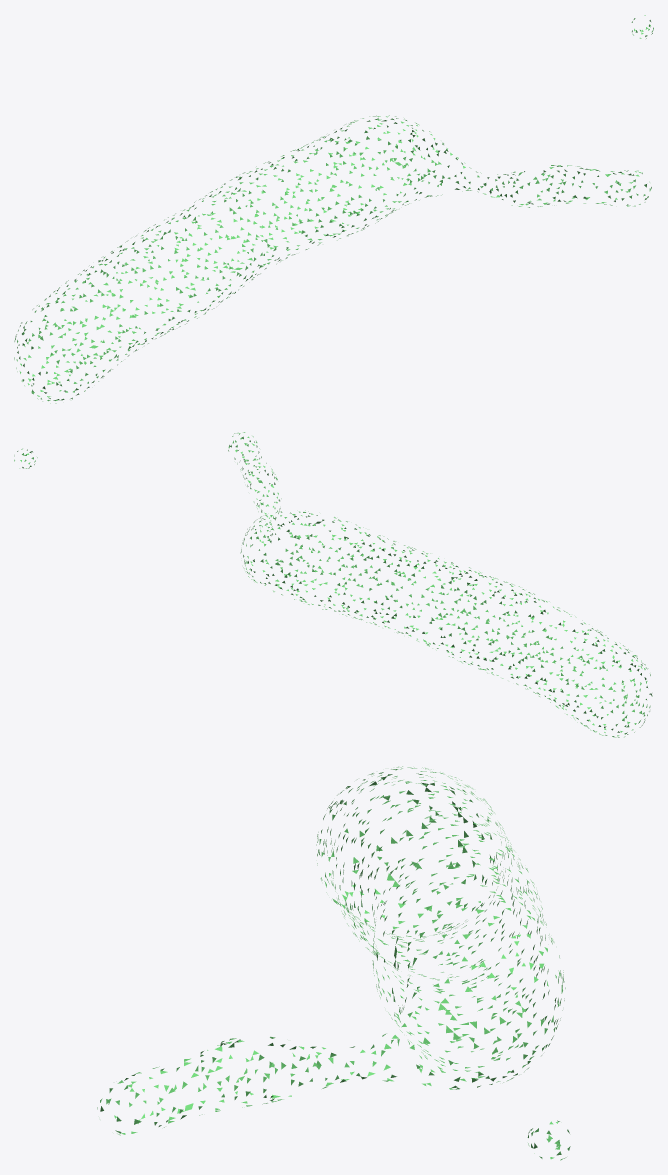
Rendered from morph_018.glb.
The picture shows the model from 3 angles, top to bottom: view 1: azimuth 30°, elevation 25°; view 2: azimuth 150°, elevation 25°; view 3: azimuth 270°, elevation 25°; orthographic projection. The views are drawn at different scales.
Bounding box in the file's own units: 129 × 36.66 × 44.65.
